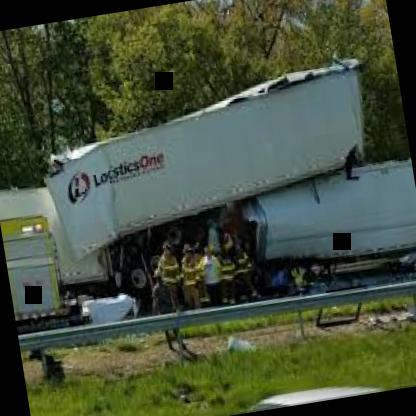accident: (2, 44, 416, 315)
